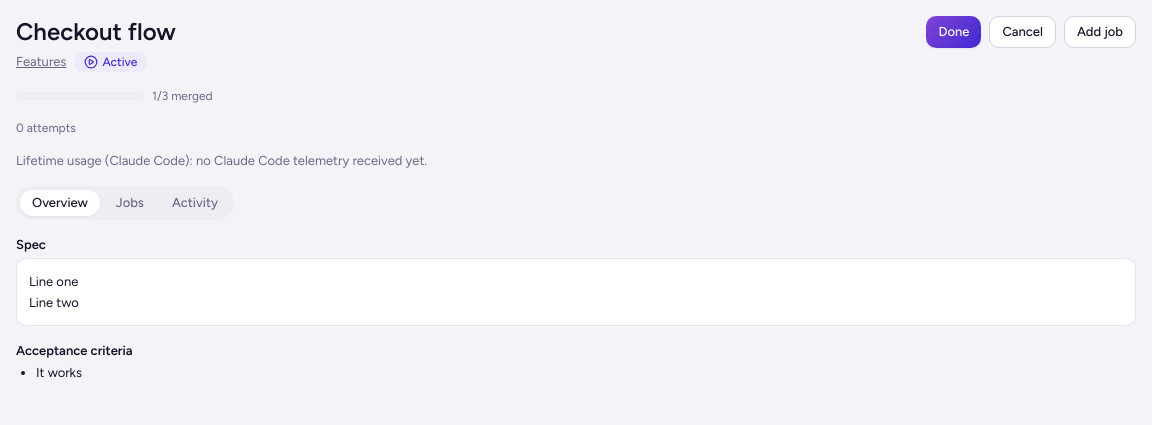
Test: FeatureDetailView › lists jobs on the jobs tab in dependency order and toggles to repos
Click the tab "Jobs" at (130, 203), box [104, 190, 156, 216]
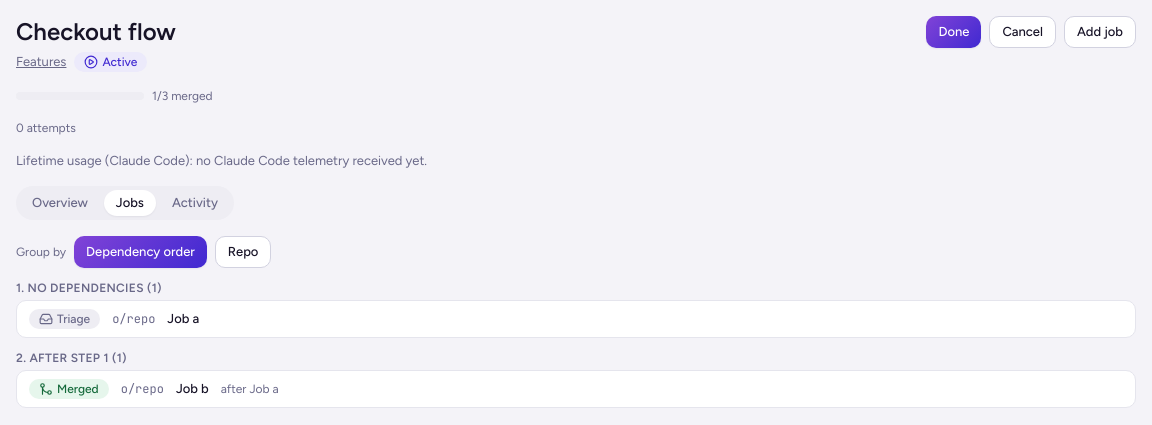
expect the heading "1. No dependencies (1)" is shown: met, box [16, 281, 162, 295]
expect the heading "2. After step 1 (1)" is shown: met, box [16, 351, 127, 365]
expect the text "after Job a" is shown: met, box [221, 381, 279, 397]
Click the button "Repo" at (243, 252), box [215, 236, 271, 268]
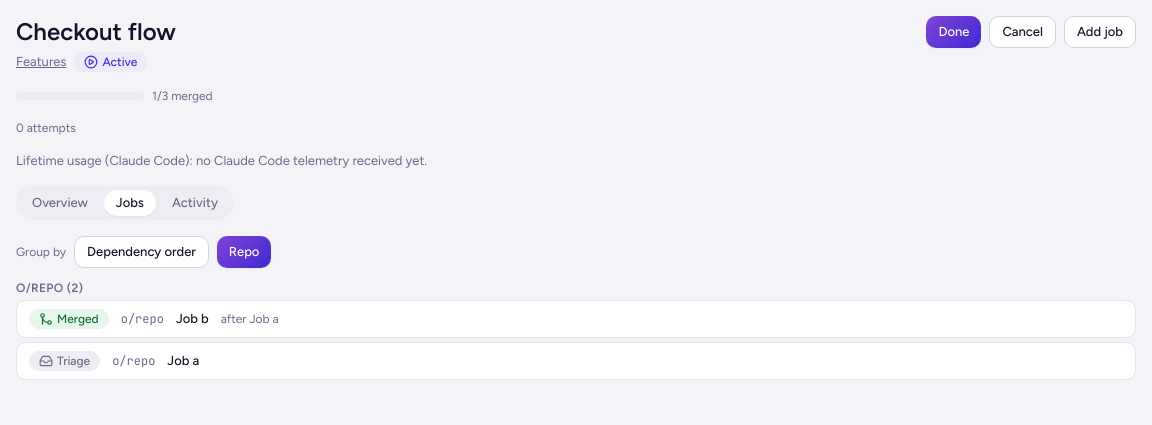
expect the heading "o/repo (2)" is shown: met, box [16, 281, 83, 295]
